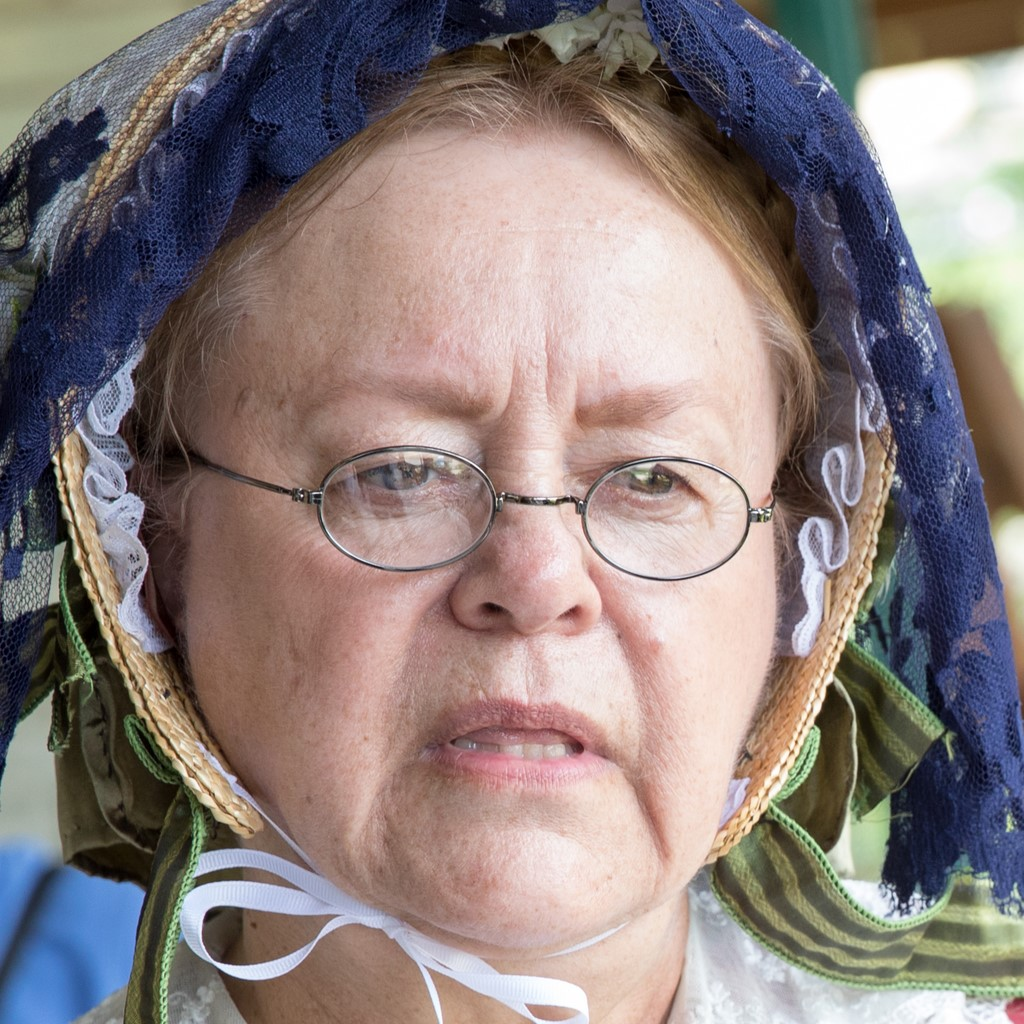sin_mascara: (148, 77, 802, 980)
